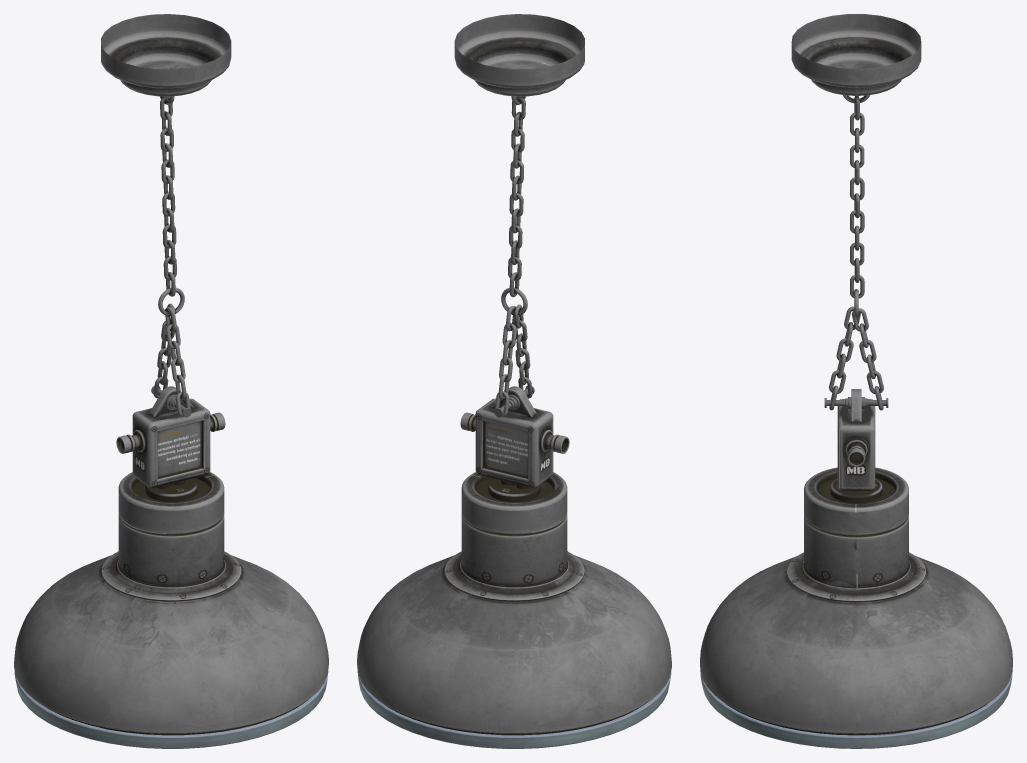
3 views of the same model, side by side, from view 1: azimuth 30°, elevation 25°; view 2: azimuth 150°, elevation 25°; view 3: azimuth 270°, elevation 25° (orthographic).
Parts seen in each view (by area): view 1: Disc_1; view 2: Disc_1; view 3: Disc_1.
Part boxes in pixels (x1,y1,x2,y2): Disc_1: [14, 14, 328, 748]; Disc_1: [357, 14, 671, 748]; Disc_1: [700, 14, 1012, 748].
Size of the model in its own units: 0.5593 by 1.28 by 0.5582.
Materials: 1 (1 with a texture image).
